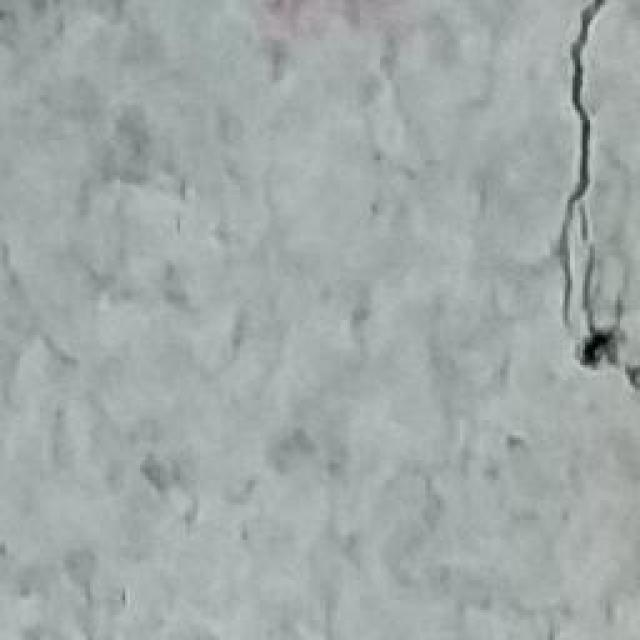Longitudinal: (555, 0, 640, 408)
